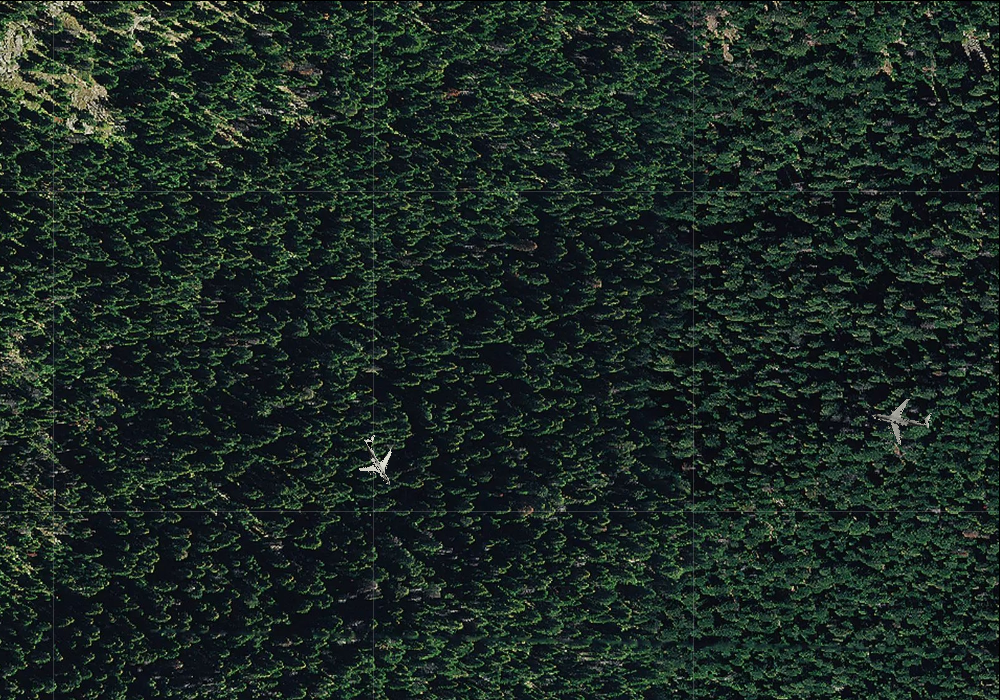plane: (345, 427, 411, 495), (867, 386, 936, 451)
